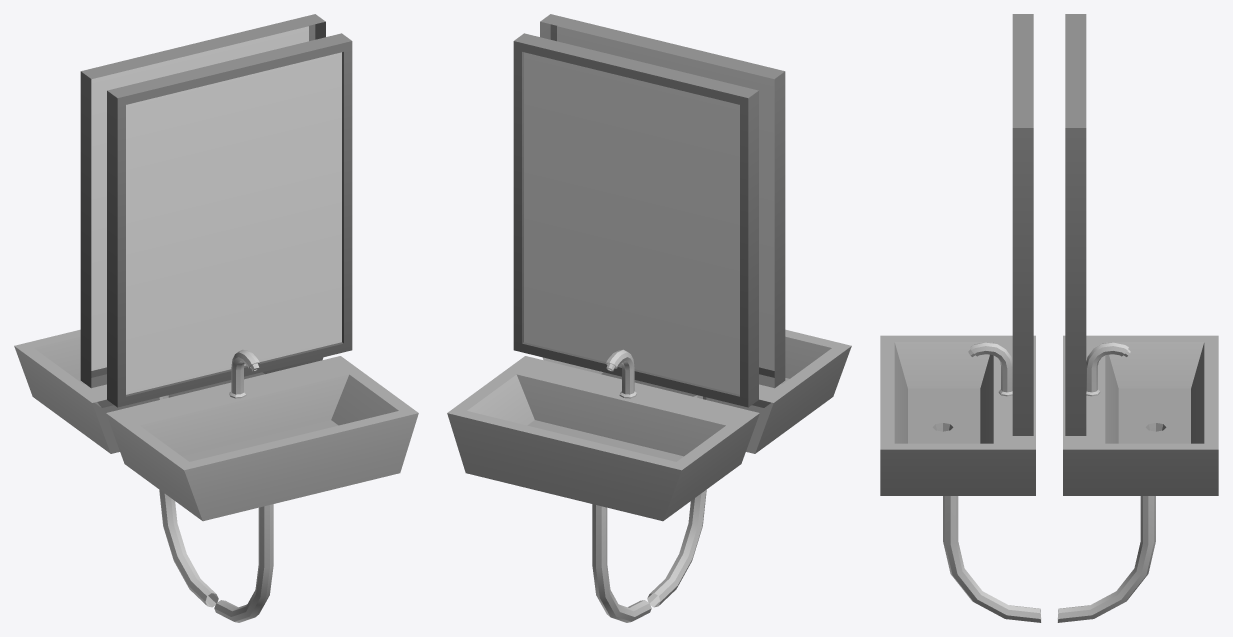
Rendered from Wastafel.fbx.
3 views of the same model, side by side, from view 1: azimuth 30°, elevation 25°; view 2: azimuth 150°, elevation 25°; view 3: azimuth 270°, elevation 25° (orthographic).
Visible parts, largest first — view 1: Wastafel_LOD0; view 2: Wastafel_LOD0; view 3: Wastafel_LOD0.
Part boxes in pixels (<box>): Wastafel_LOD0: <box>14,14,418,622</box>; Wastafel_LOD0: <box>447,14,851,622</box>; Wastafel_LOD0: <box>880,14,1218,622</box>.
Size of what is drawn, in the model's own units: 80.37 by 181 by 101.
